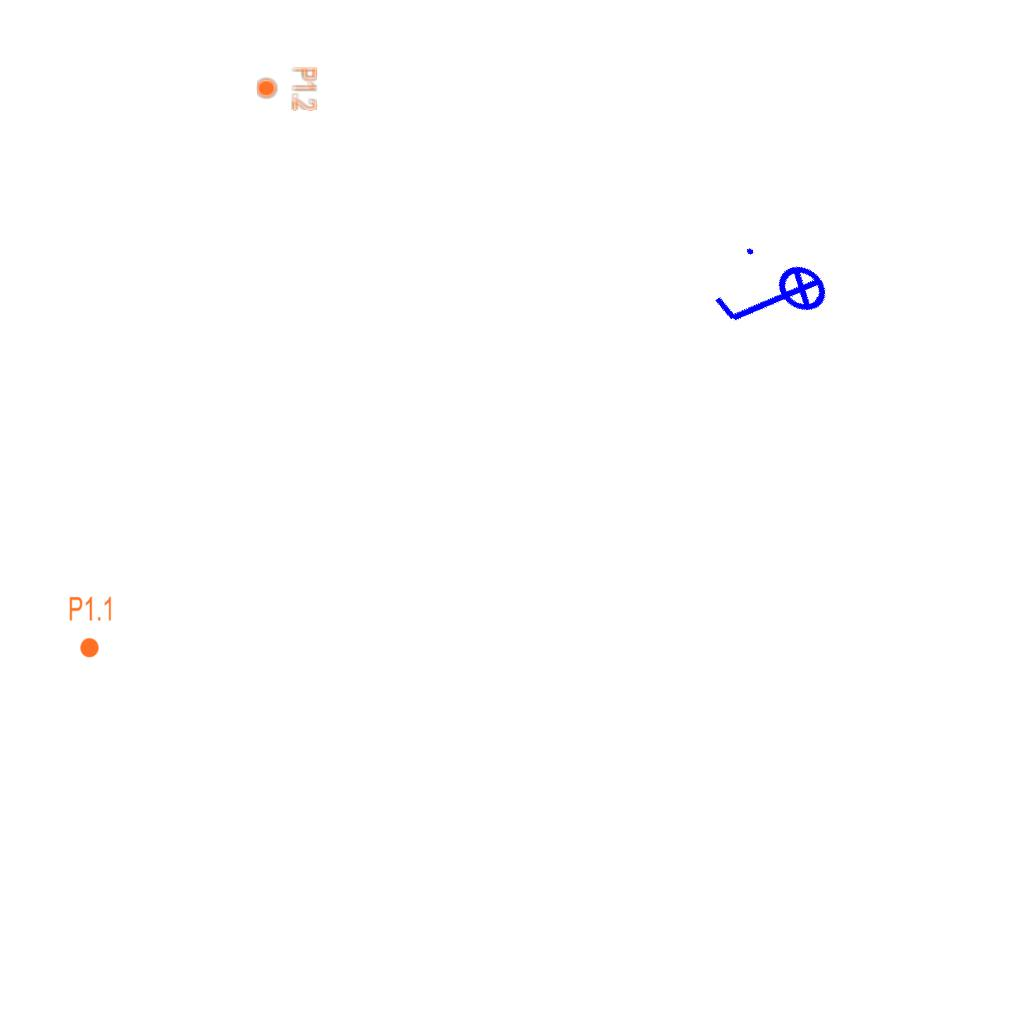Ausschalter_beleuchtet: (699, 228, 847, 372)
Downlight_LED_Einbauleuchten_Flur: (255, 66, 319, 112), (68, 595, 114, 659)
